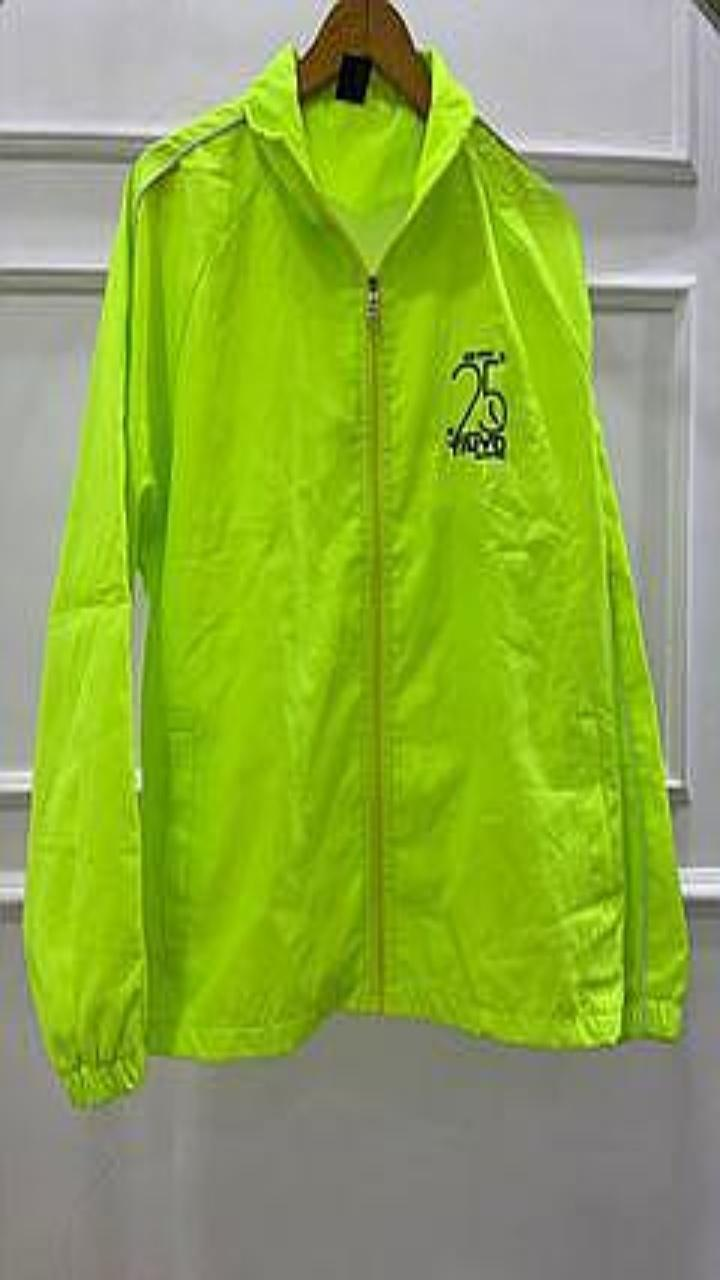Sports_Jacket: (23, 43, 688, 1106)
